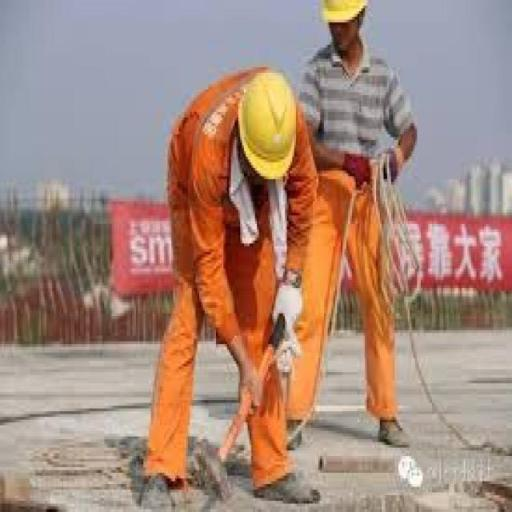gloves: (268, 280, 311, 370), (344, 148, 381, 190), (381, 152, 408, 181)
helmet: (233, 62, 311, 184), (316, 2, 366, 26)
vest: (164, 116, 315, 328)
